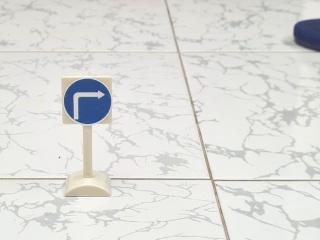right: (58, 68, 121, 131)
